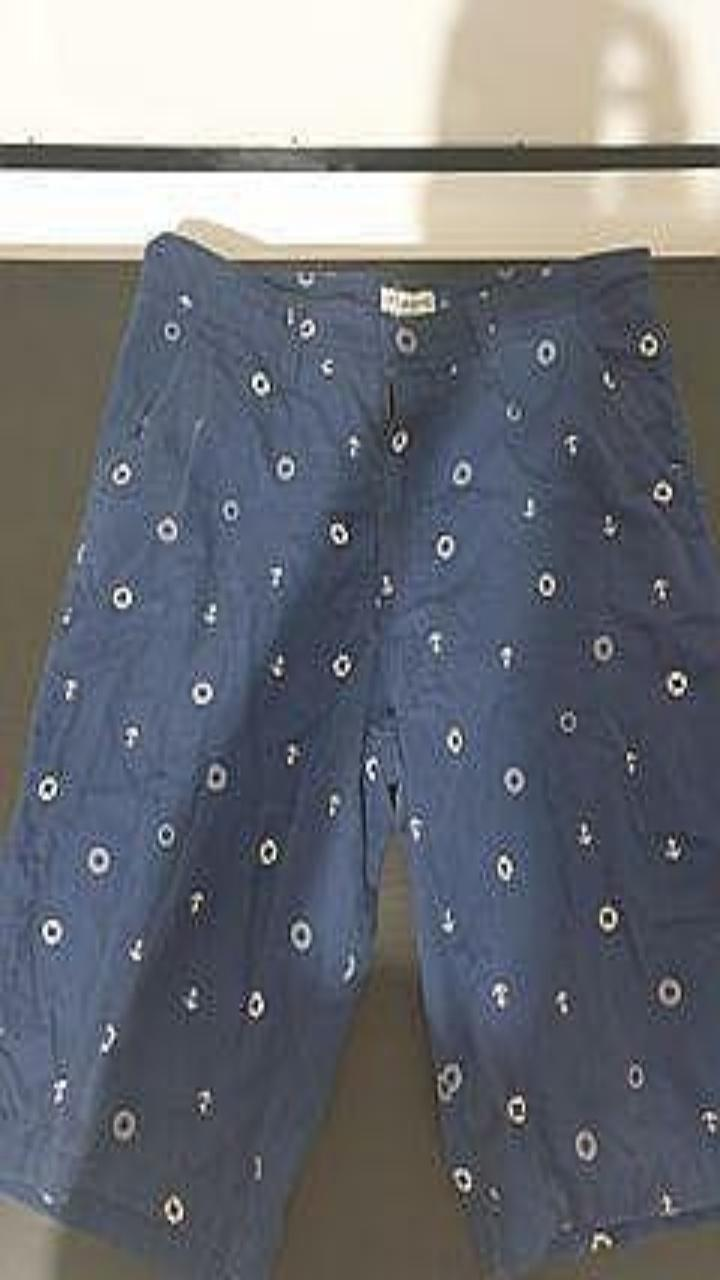Shorts: (0, 232, 719, 1279)
